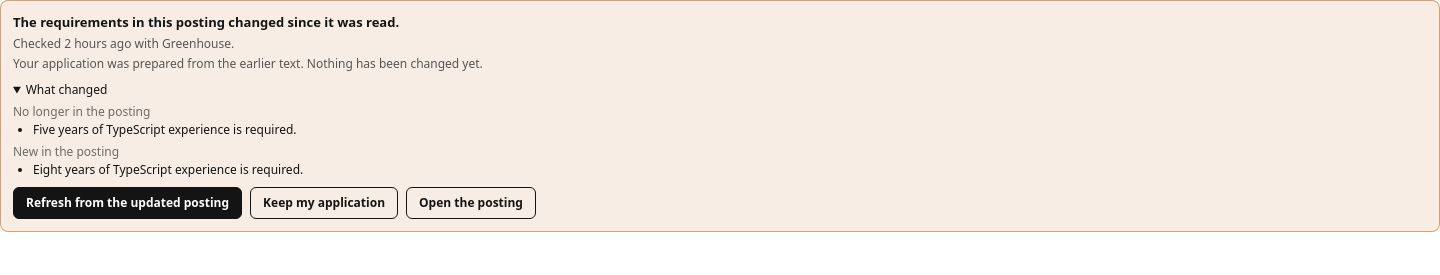
Test: PostingVerificationNotice › shows a refused action instead of pretending it worked
Click the button "Refresh from the updated posting" at [128, 202], box [13, 186, 242, 218]
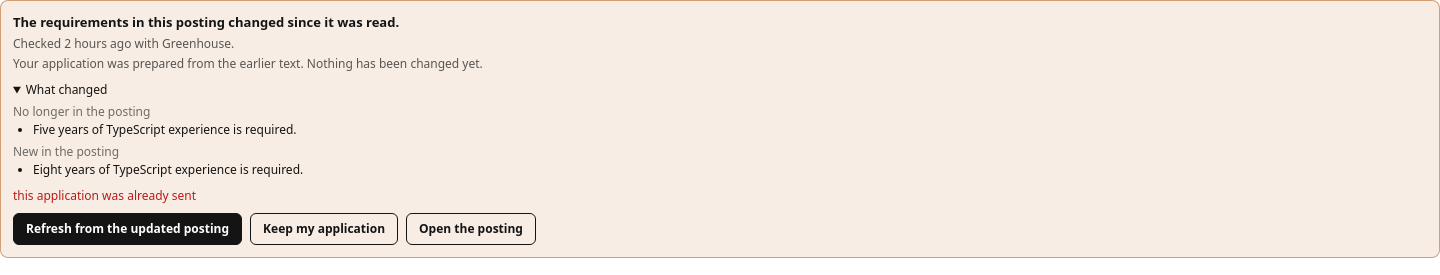
Check: the text "this application was already sent" is shown, box [13, 186, 196, 204]
